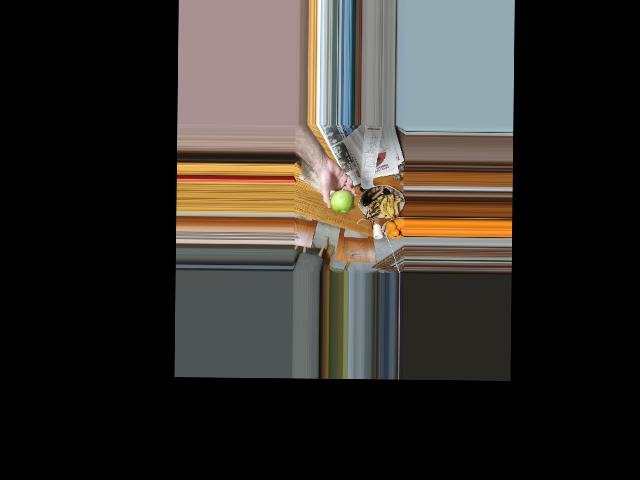apple: (328, 187, 354, 215)
